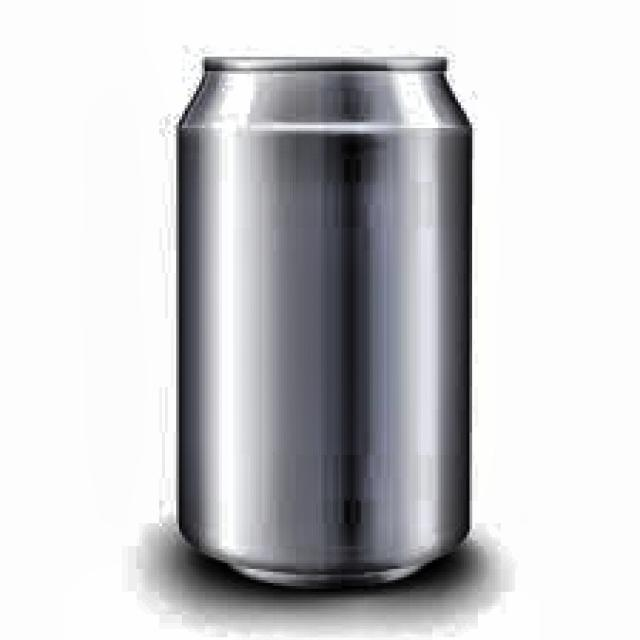can: (157, 43, 484, 610)
